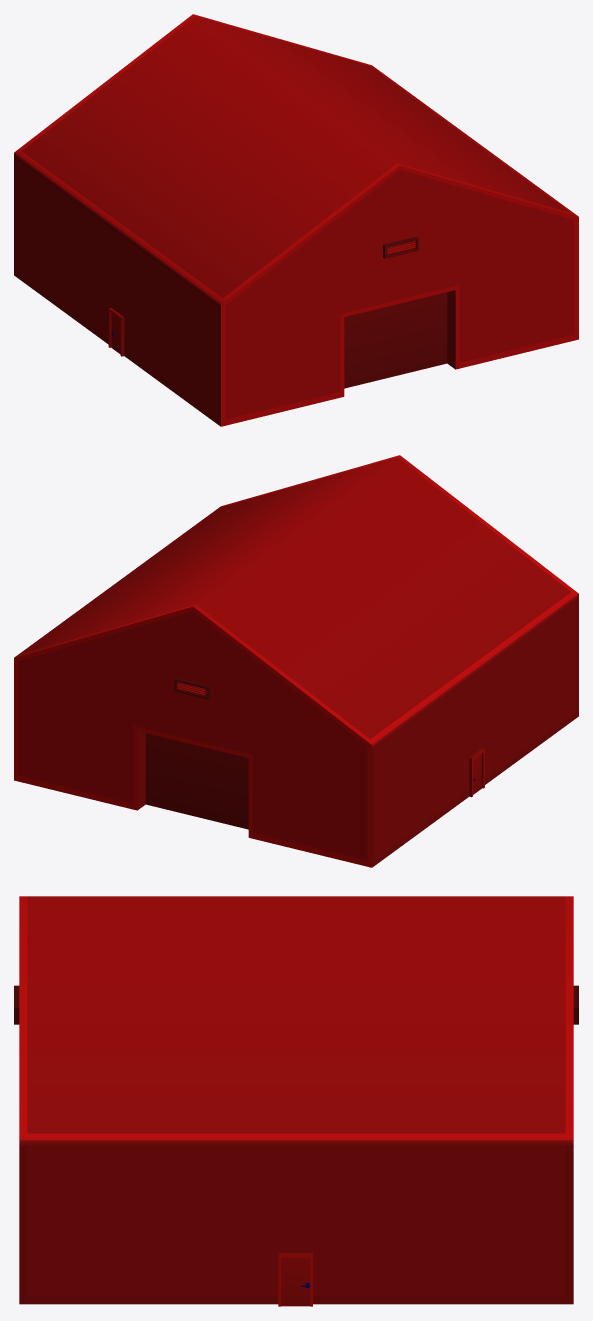
File: buildings-industrial-warehouse_v2.fbx
The picture shows the model from 3 angles, top to bottom: view 1: azimuth 30°, elevation 25°; view 2: azimuth 150°, elevation 25°; view 3: azimuth 270°, elevation 25°; orthographic projection. The views are drawn at different scales.
Parts seen in each view (by area): view 1: Warehouse_v2_base; view 2: Warehouse_v2_base; view 3: Warehouse_v2_base.
Boxes of the visible parts, x1=… form: Warehouse_v2_base: x1=14, y1=14, x2=578, y2=426; Warehouse_v2_base: x1=14, y1=455, x2=578, y2=867; Warehouse_v2_base: x1=14, y1=896, x2=578, y2=1306.
Size of the model in its own units: 23.73 by 13.59 by 23.81.
